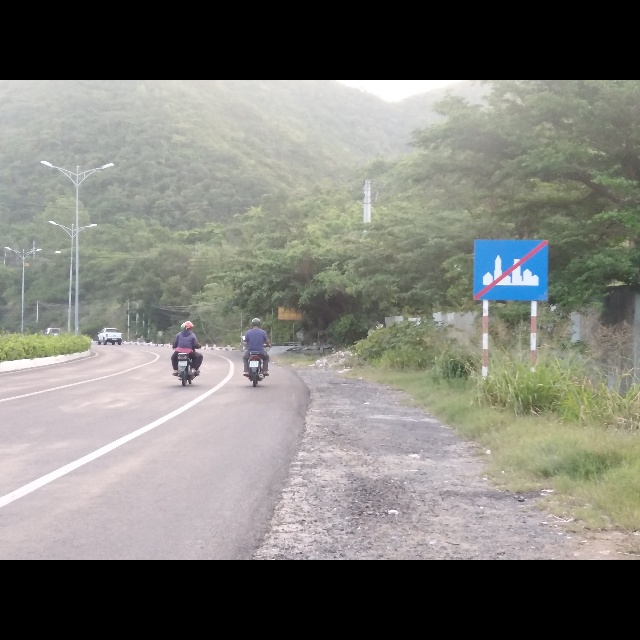Hết khu đông dân cư: (472, 234, 551, 302)
